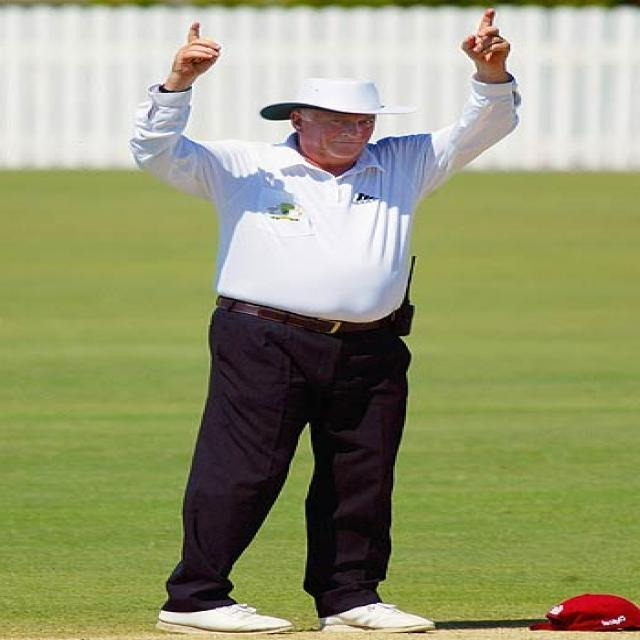Six: (94, 1, 545, 636)
